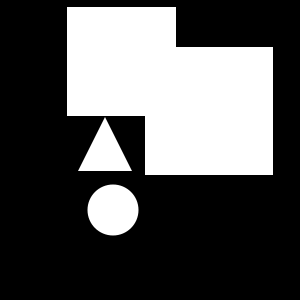circle: (145, 47, 273, 175), (67, 7, 176, 116)
rectangle: (87, 184, 138, 235)
triangle: (78, 117, 132, 171)
